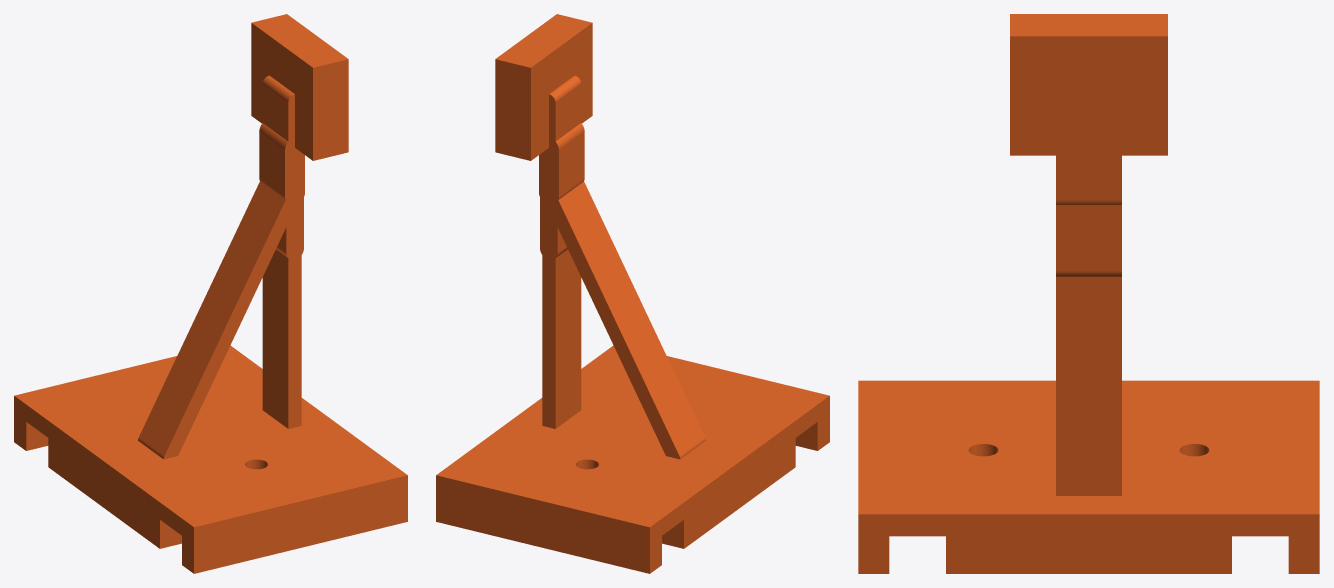
Rendered from 07-left.glb.
The picture shows the model from 3 angles, left to right: view 1: azimuth 30°, elevation 25°; view 2: azimuth 150°, elevation 25°; view 3: azimuth 270°, elevation 25°; orthographic projection. The views are drawn at different scales.
Visible parts, largest first — view 1: left_solid; view 2: left_solid; view 3: left_solid.
Part boxes in pixels (x1=…): left_solid: x1=14, y1=14, x2=407, y2=573; left_solid: x1=436, y1=14, x2=829, y2=573; left_solid: x1=858, y1=14, x2=1319, y2=573.
Size of the model in its own units: 48 by 90 by 70.
